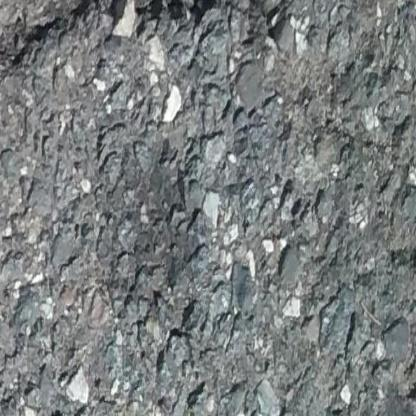Cracks: (0, 0, 276, 88)
